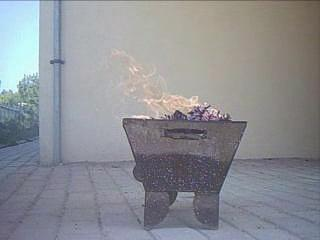fire: (109, 47, 205, 117)
